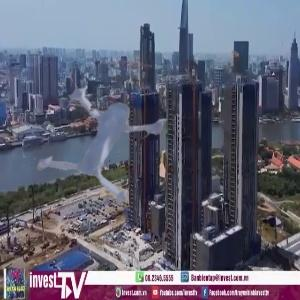drone: (17, 42, 203, 228)
